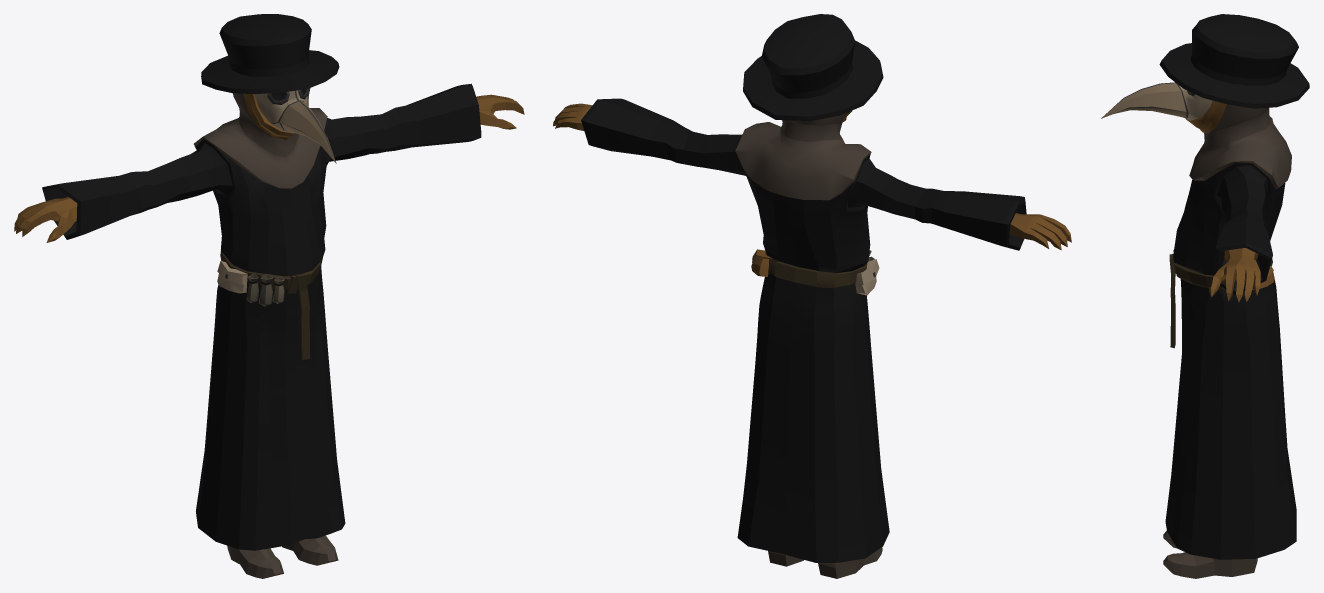
Rendered from Plague Doctor.fbx.
3 views of the same model, side by side, from view 1: azimuth 30°, elevation 25°; view 2: azimuth 150°, elevation 25°; view 3: azimuth 270°, elevation 25° (orthographic).
Parts seen in each view (by area): view 1: node_id67; view 2: node_id67; view 3: node_id67.
Part boxes in pixels (bbox=[...]): node_id67: bbox=[14, 14, 524, 578]; node_id67: bbox=[553, 14, 1071, 578]; node_id67: bbox=[1101, 14, 1309, 578].
Size of the model in its own units: 0.5108 by 0.512 by 0.1817.
Materials: 1 (1 with a texture image).
